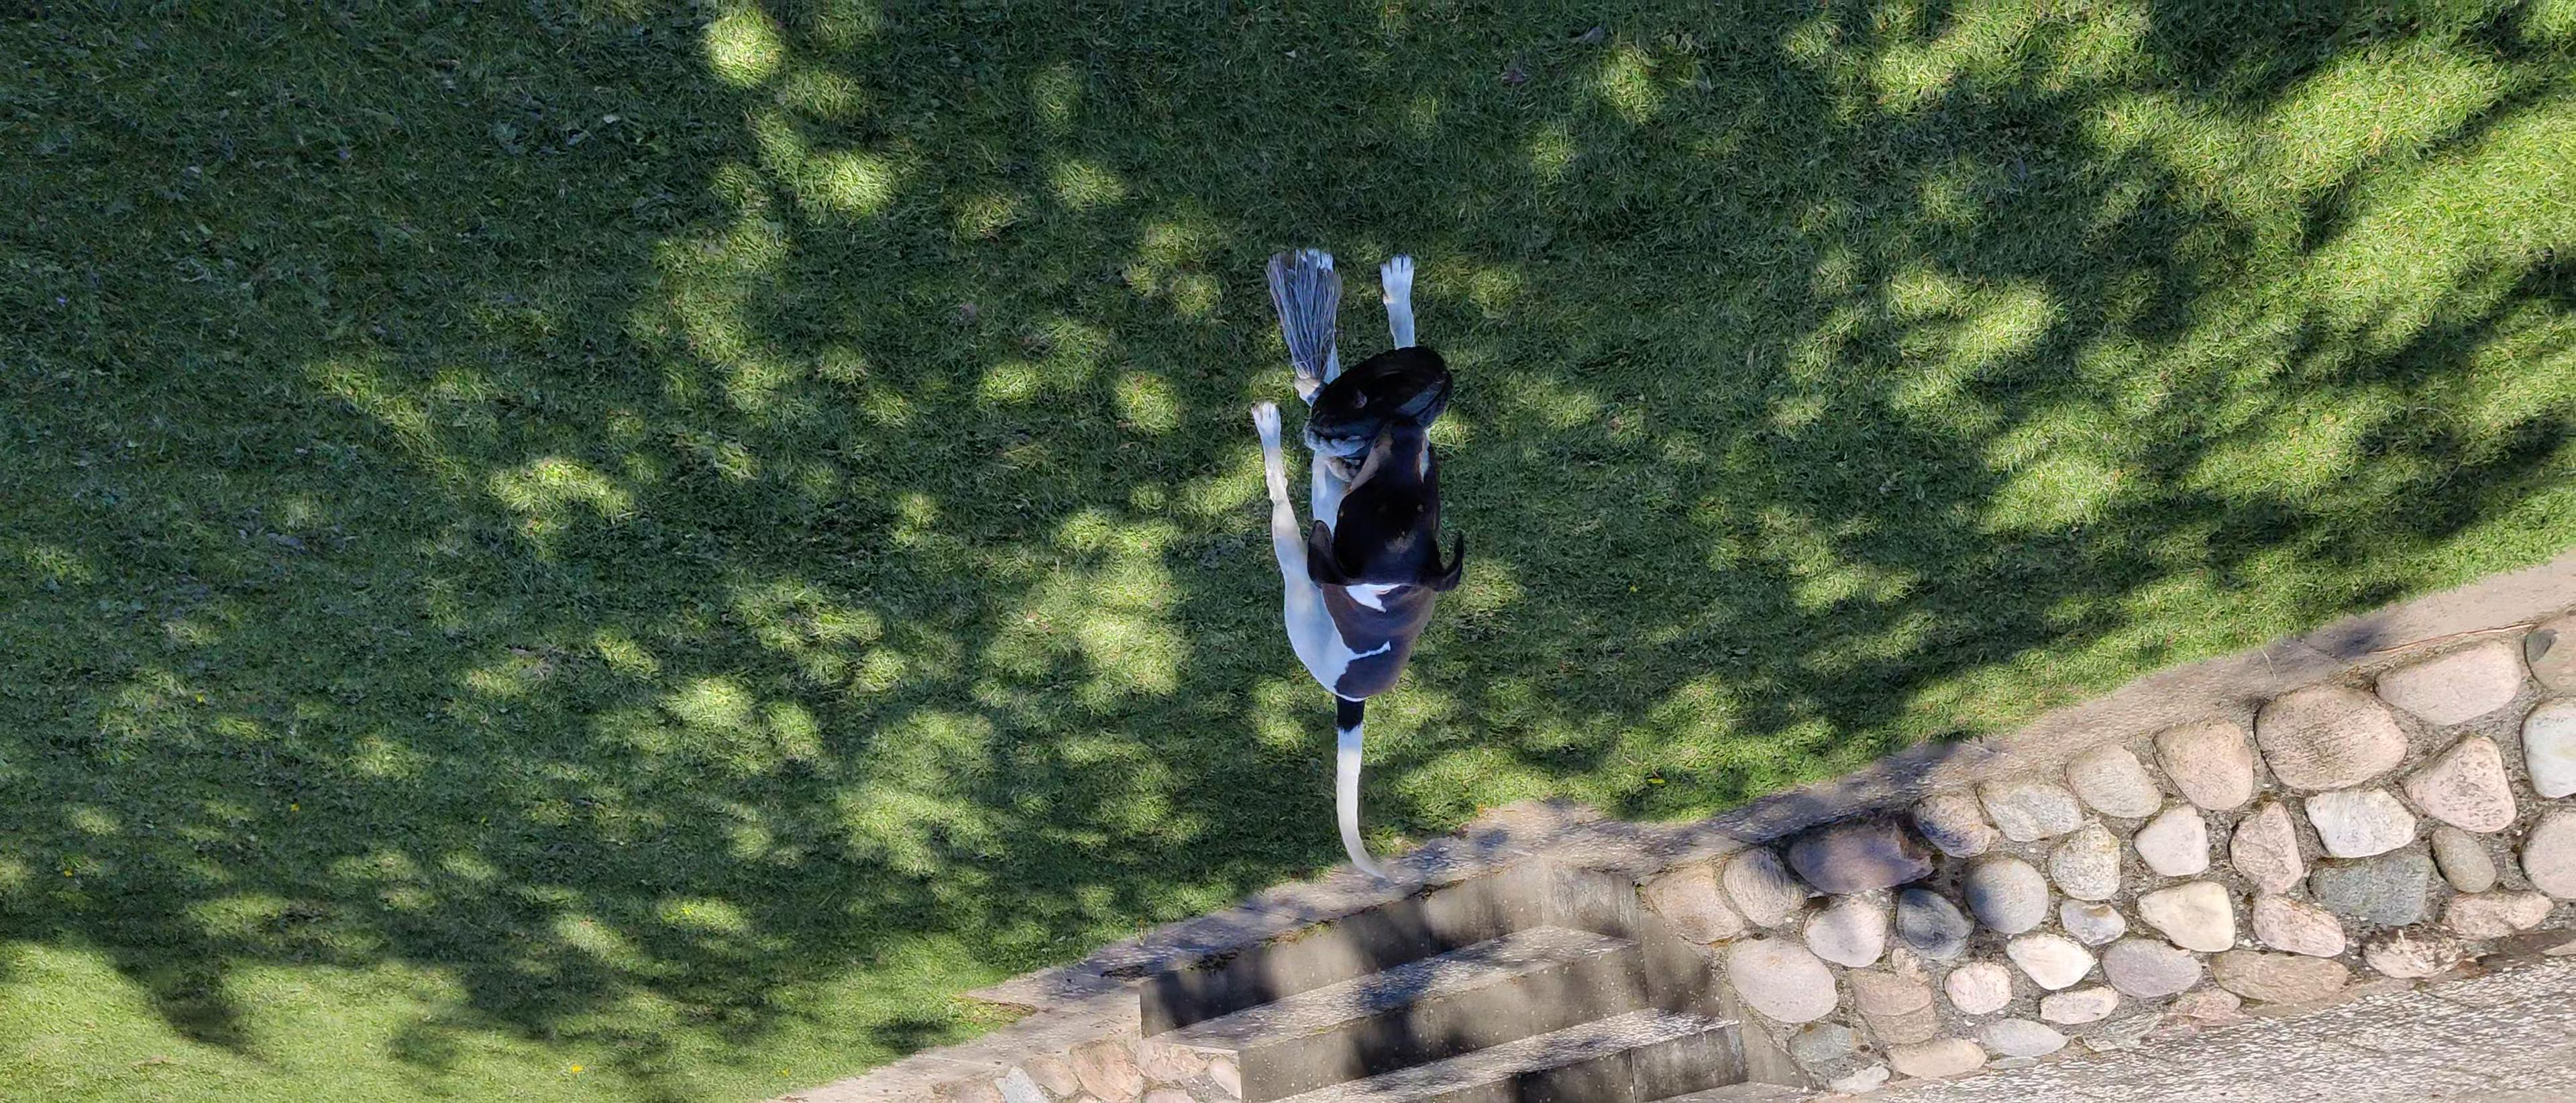Dog: (1222, 215, 1482, 884)
